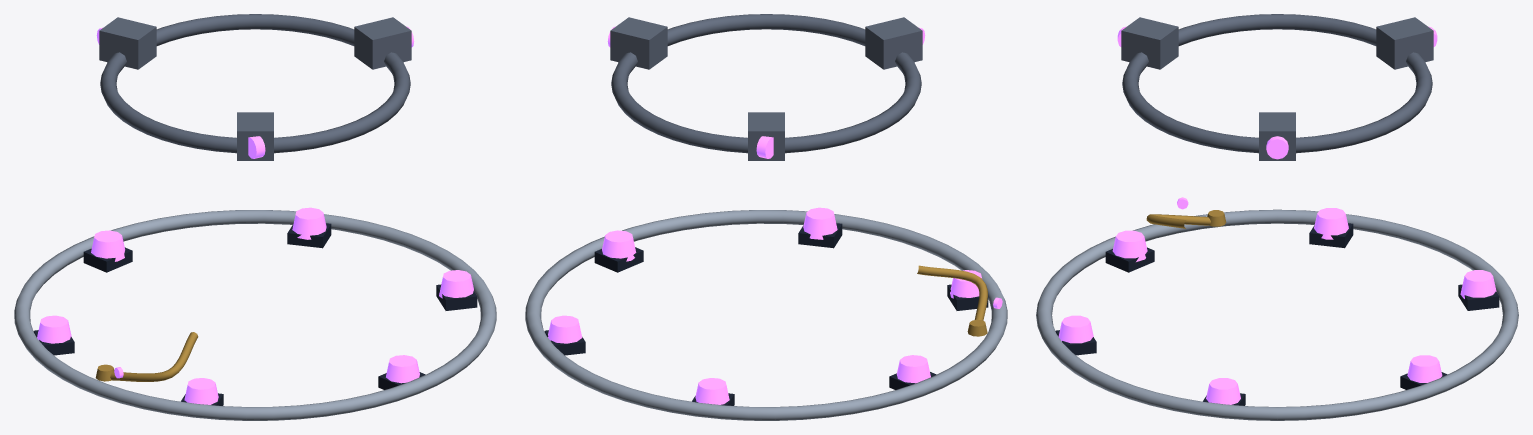
The model's file is tower_singularity_range_s7.glb.
The picture shows the model from 3 angles, left to right: view 1: azimuth 30°, elevation 25°; view 2: azimuth 150°, elevation 25°; view 3: azimuth 270°, elevation 25°; orthographic projection.
Visible parts, largest first — view 1: singularity_projector_ring, singularity_collar_ring, singularity_collar_pod0, singularity_collar_pod1, singularity_collar_pod2, singularity_projector_conduit, singularity_projector_node2, singularity_projector_node1, singularity_projector_node3, singularity_projector_node0, singularity_projector_node4, singularity_projector_node5 (+3 smaller); view 2: singularity_projector_ring, singularity_collar_ring, singularity_collar_pod1, singularity_collar_pod2, singularity_collar_pod0, singularity_projector_conduit, singularity_projector_node4, singularity_projector_node3, singularity_projector_node2, singularity_projector_node0, singularity_projector_node1, singularity_projector_shoe3 (+2 smaller); view 3: singularity_projector_ring, singularity_collar_ring, singularity_collar_pod0, singularity_collar_pod2, singularity_collar_pod1, singularity_projector_node5, singularity_projector_node0, singularity_projector_node1, singularity_projector_node4, singularity_projector_node2, singularity_projector_node3, singularity_projector_conduit (+3 smaller).
Part boxes in pixels (x1=…): singularity_projector_ring: x1=14, y1=210, x2=496, y2=420; singularity_collar_ring: x1=100, y1=14, x2=410, y2=153; singularity_collar_pod0: x1=99, y1=17, x2=156, y2=69; singularity_collar_pod1: x1=354, y1=17, x2=411, y2=69; singularity_collar_pod2: x1=237, y1=112, x2=273, y2=160; singularity_projector_conduit: x1=110, y1=332, x2=198, y2=381; singularity_projector_node2: x1=292, y1=207, x2=326, y2=239; singularity_projector_node1: x1=91, y1=230, x2=125, y2=261; singularity_projector_node3: x1=439, y1=270, x2=473, y2=298; singularity_projector_node0: x1=37, y1=315, x2=71, y2=343; singularity_projector_node4: x1=386, y1=355, x2=419, y2=383; singularity_projector_node5: x1=184, y1=378, x2=218, y2=404; singularity_projector_ring: x1=525, y1=210, x2=1007, y2=420; singularity_collar_ring: x1=611, y1=14, x2=921, y2=153; singularity_collar_pod1: x1=610, y1=17, x2=667, y2=69; singularity_collar_pod2: x1=865, y1=17, x2=922, y2=69; singularity_collar_pod0: x1=748, y1=112, x2=784, y2=160; singularity_projector_conduit: x1=917, y1=265, x2=987, y2=320; singularity_projector_node4: x1=803, y1=207, x2=837, y2=239; singularity_projector_node3: x1=602, y1=230, x2=636, y2=261; singularity_projector_node2: x1=548, y1=315, x2=582, y2=343; singularity_projector_node0: x1=896, y1=355, x2=930, y2=383; singularity_projector_node1: x1=695, y1=378, x2=729, y2=404; singularity_projector_shoe3: x1=594, y1=247, x2=643, y2=272; singularity_projector_ring: x1=1036, y1=209, x2=1518, y2=420; singularity_collar_ring: x1=1122, y1=14, x2=1432, y2=153; singularity_collar_pod0: x1=1376, y1=17, x2=1433, y2=69; singularity_collar_pod2: x1=1121, y1=17, x2=1178, y2=69; singularity_collar_pod1: x1=1259, y1=112, x2=1295, y2=160; singularity_projector_node5: x1=1112, y1=230, x2=1147, y2=261; singularity_projector_node0: x1=1314, y1=208, x2=1348, y2=239; singularity_projector_node1: x1=1460, y1=270, x2=1496, y2=298; singularity_projector_node4: x1=1058, y1=315, x2=1093, y2=343; singularity_projector_node2: x1=1407, y1=355, x2=1442, y2=382; singularity_projector_node3: x1=1206, y1=378, x2=1240, y2=404; singularity_projector_conduit: x1=1146, y1=214, x2=1210, y2=228.
Size of the model in its own units: 2.36 by 1.43 by 2.36.
